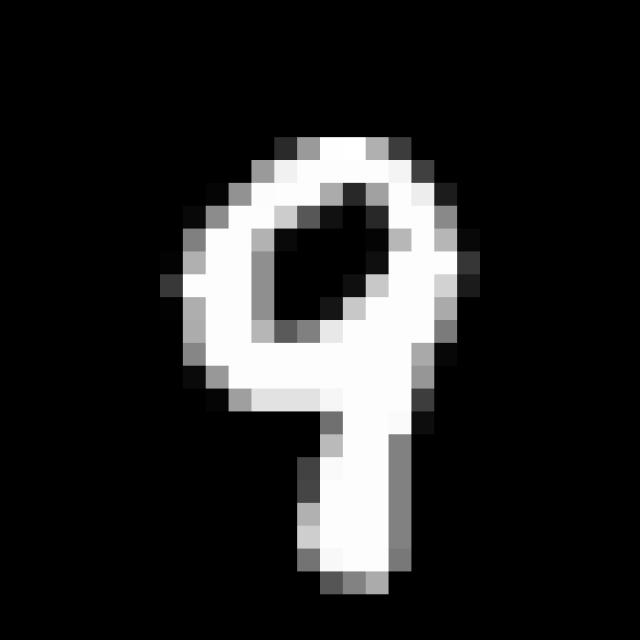nine -9-: (167, 119, 477, 603)
